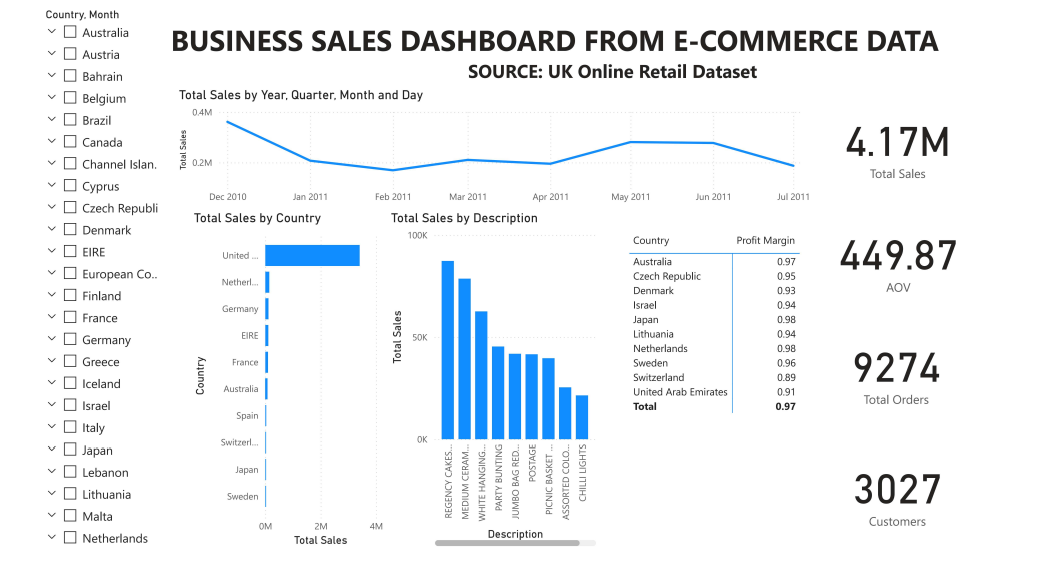

The dashboard page shown, as its layout file describes it:
{"tool":"powerbi","page":{"name":"Page 1","canvas":[1280,720],"ordinal":0},"visuals":[{"type":"card","fields":{"Values":["cleaned_ecommerce 1.Total Sales"]},"box":[998.5,110.2,281.5,150.4],"z":0},{"type":"card","fields":{"Values":["cleaned_ecommerce 1.Total Orders"]},"box":[996.7,410.9,281.5,146.9],"z":1000},{"type":"card","fields":{"Values":["cleaned_ecommerce 1.AOV"]},"box":[1000.2,260.5,279.8,150.4],"z":2000},{"type":"card","fields":{"Values":["cleaned_ecommerce 1.Customers"]},"box":[998.5,570.1,279.8,150.4],"z":3000},{"type":"clusteredColumnChart","fields":{"Category":["cleaned_ecommerce 1.Description"],"Y":["cleaned_ecommerce 1.Total Sales"]},"box":[465.1,272.8,279.8,447.7],"z":4000},{"type":"clusteredBarChart","fields":{"Category":["cleaned_ecommerce 1.Country"],"Y":["cleaned_ecommerce 1.Total Sales"]},"box":[204.6,272.8,258.8,447.7],"z":5000},{"type":"slicer","fields":{"Values":["cleaned_ecommerce 1.Country","cleaned_ecommerce 1.Month"]},"box":[0,0,173.3,720],"z":6000},{"type":"lineChart","fields":{"Y":["cleaned_ecommerce 1.Total Sales"],"Category":["cleaned_ecommerce 1.InvoiceMonth.Variation.Date Hierarchy.Year","cleaned_ecommerce 1.InvoiceMonth.Variation.Date Hierarchy.Quarter","cleaned_ecommerce 1.InvoiceMonth.Variation.Date Hierarchy.Month","cleaned_ecommerce 1.InvoiceMonth.Variation.Date Hierarchy.Day"]},"box":[183.6,110.2,842.8,162.6],"z":7000},{"type":"pivotTable","fields":{"Rows":["cleaned_ecommerce 1.Country"],"Values":["cleaned_ecommerce 1.Profit Margin"]},"box":[779.9,299,281.5,258.8],"z":8000},{"type":"textbox","box":[780,558,218,162],"z":8001},{"type":"textbox","box":[173.1,0,1105.1,110.2],"z":8002}]}

Visuals, with their boxes on the page's 1280x720 design canvas (x1, y1, x2, y2). These are canvas units, not pixel positions in the 1040x575 screenshot, which may show the page scaled, cropped or inside an application window:
card - cleaned_ecommerce 1.Total Sales: BBox(998, 110, 1280, 261)
card - cleaned_ecommerce 1.Total Orders: BBox(997, 411, 1278, 558)
card - cleaned_ecommerce 1.AOV: BBox(1000, 260, 1280, 411)
card - cleaned_ecommerce 1.Customers: BBox(998, 570, 1278, 720)
clusteredColumnChart - cleaned_ecommerce 1.Description x cleaned_ecommerce 1.Total Sales: BBox(465, 273, 745, 720)
clusteredBarChart - cleaned_ecommerce 1.Country x cleaned_ecommerce 1.Total Sales: BBox(205, 273, 463, 720)
slicer - cleaned_ecommerce 1.Country x cleaned_ecommerce 1.Month: BBox(0, 0, 173, 720)
lineChart - cleaned_ecommerce 1.Total Sales x cleaned_ecommerce 1.InvoiceMonth.Variation.Date Hierarchy.Year: BBox(184, 110, 1026, 273)
pivotTable - cleaned_ecommerce 1.Country x cleaned_ecommerce 1.Profit Margin: BBox(780, 299, 1061, 558)
textbox: BBox(780, 558, 998, 720)
textbox: BBox(173, 0, 1278, 110)
